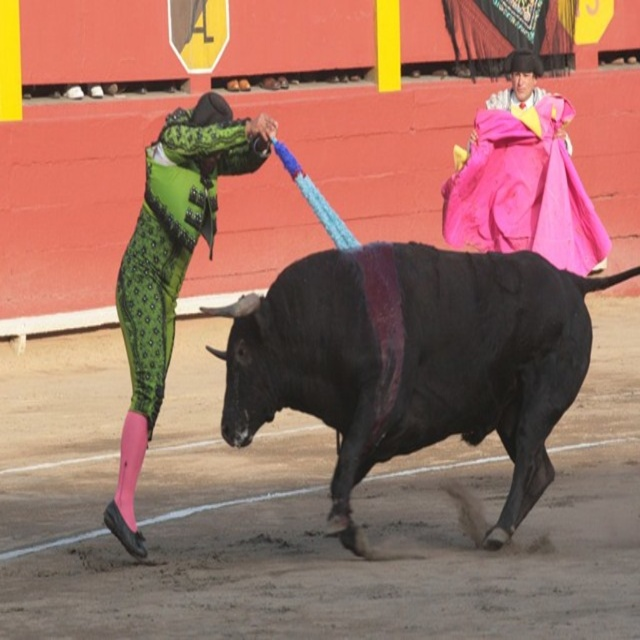Bull: (196, 240, 639, 562)
